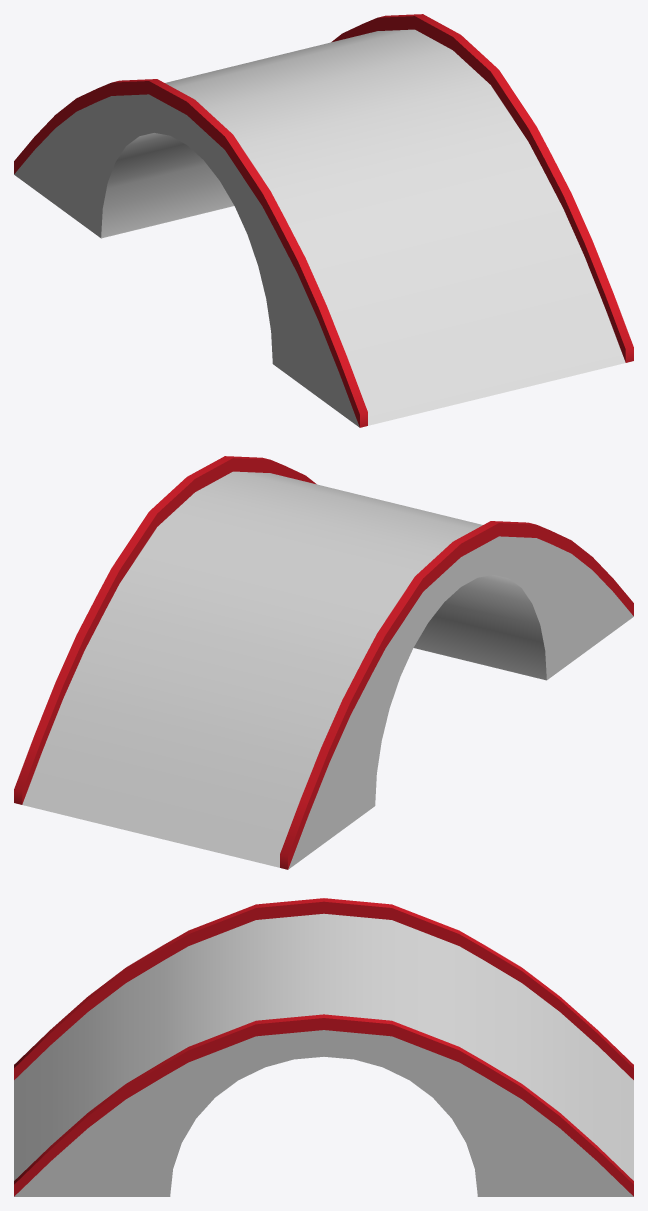
The model's file is Bridge.fbx.
The picture shows the model from 3 angles, top to bottom: view 1: azimuth 30°, elevation 25°; view 2: azimuth 150°, elevation 25°; view 3: azimuth 270°, elevation 25°; orthographic projection. The views are drawn at different scales.
Parts seen in each view (by area): view 1: Cube; view 2: Cube; view 3: Cube.
Part boxes in pixels (x1=…): Cube: x1=14, y1=14, x2=633, y2=427; Cube: x1=14, y1=456, x2=633, y2=869; Cube: x1=14, y1=898, x2=633, y2=1196.
Bounding box in the file's own units: 259 × 180 × 567.
